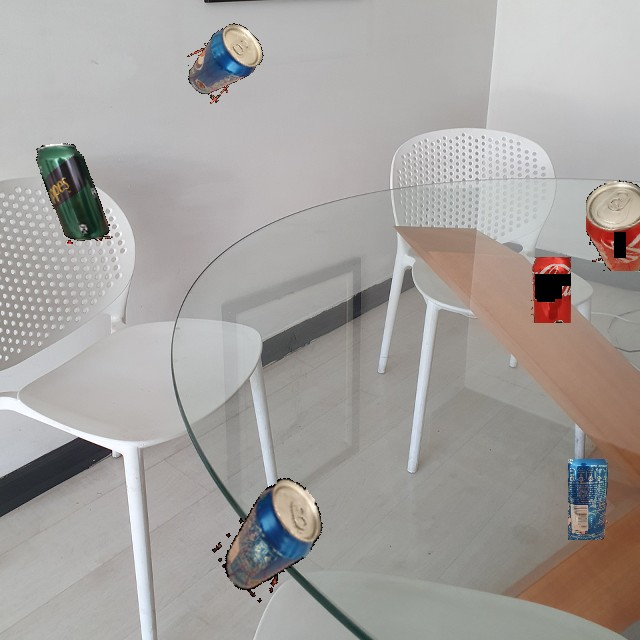coca cola: (586, 176, 640, 271), (531, 257, 571, 323)
pepsi: (193, 461, 350, 614), (179, 19, 272, 104), (568, 459, 609, 540)
schweppes: (31, 143, 113, 244)
